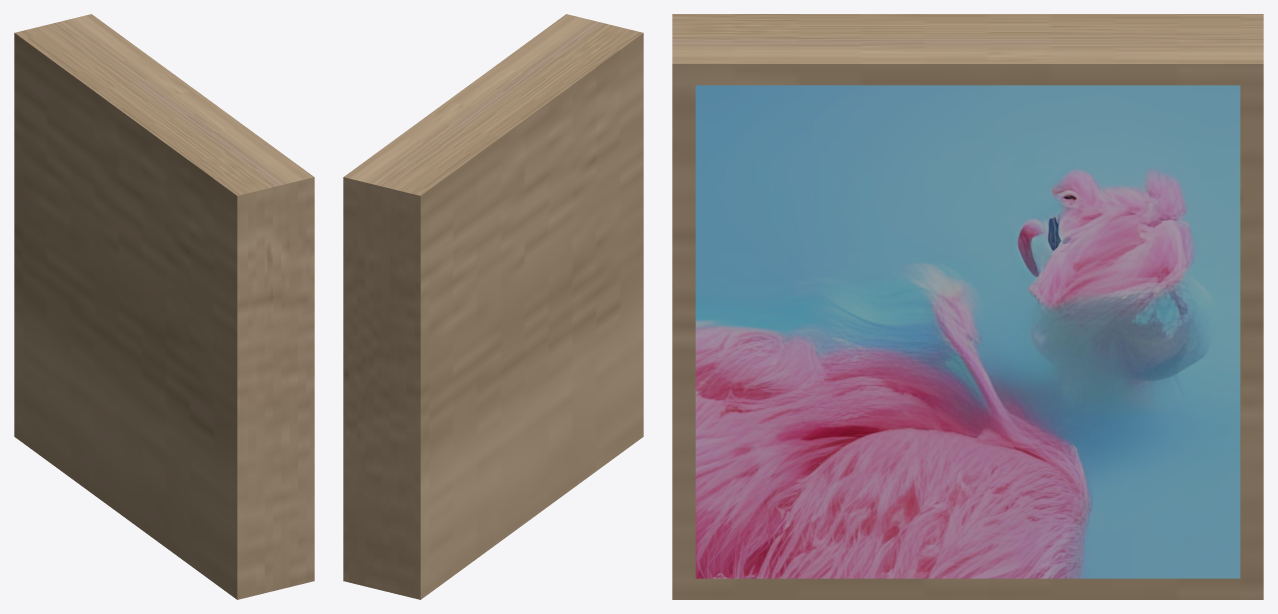
File: picture4.fbx
The picture shows the model from 3 angles, left to right: view 1: azimuth 30°, elevation 25°; view 2: azimuth 150°, elevation 25°; view 3: azimuth 270°, elevation 25°; orthographic projection. The views are drawn at different scales.
Parts seen in each view (by area): view 1: Cube; view 2: Cube; view 3: Cube.
Part boxes in pixels (x1,y1,x2,y2): Cube: (14, 14, 314, 599); Cube: (343, 14, 643, 599); Cube: (672, 14, 1263, 599).
Size of the model in its own units: 10 by 50 by 50.
Materials: 2 (2 with a texture image).
